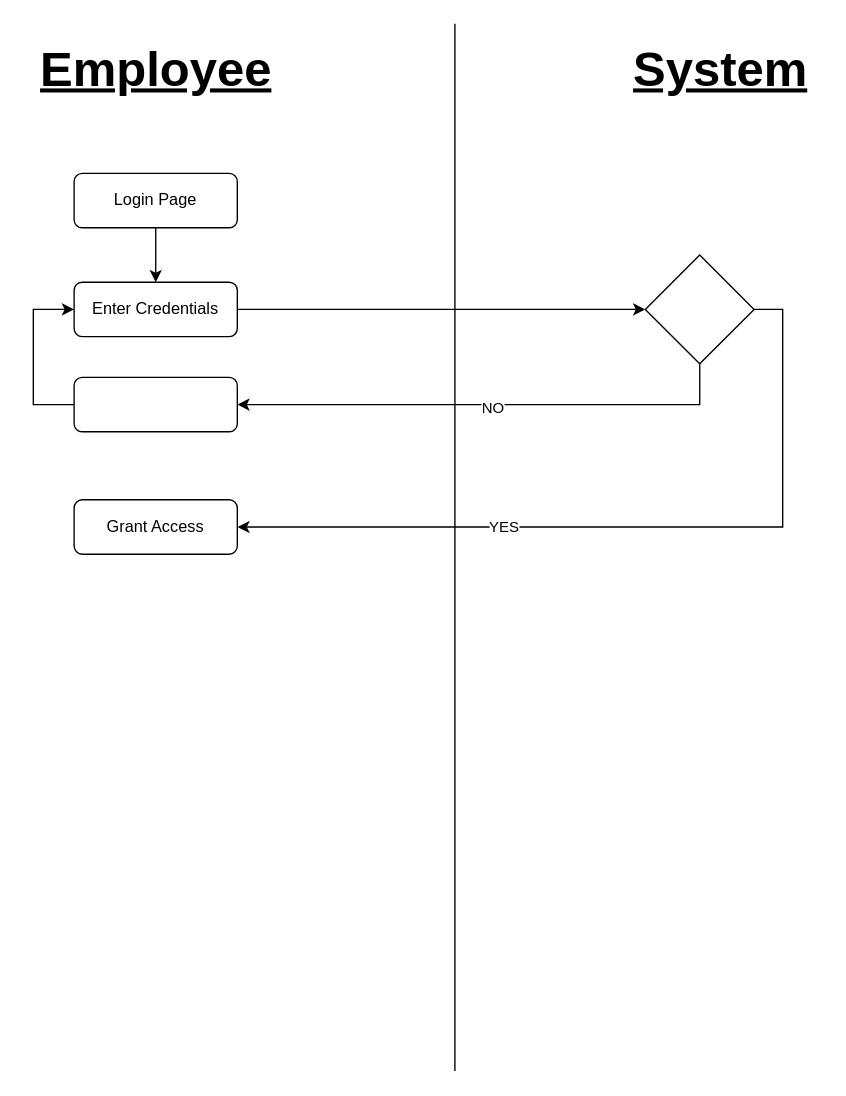
Some shapes in this 846 by 1096 pixel diagram are drawn without their labels. The shapes that lost their labels are listed below. From the top down, each one's centre as x and y in pixels, then its label:
At (699,309): "Authorized?".
At (155,404): "Incorrect Message".
